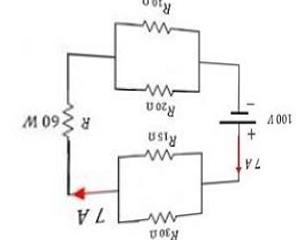resistor: (56, 95, 79, 149), (126, 17, 176, 41), (137, 76, 183, 98), (135, 143, 178, 162), (138, 206, 179, 222)
